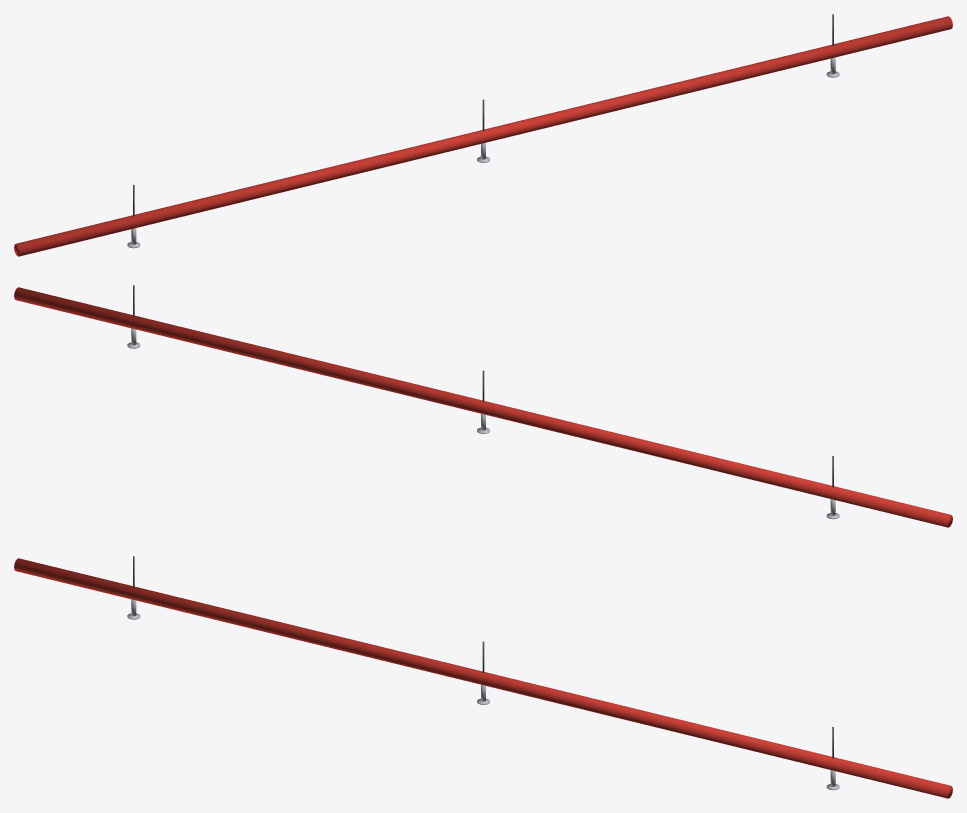
Rendered from Arch_Ceiling_Sprinkler_4m.gltf.
3 renders of one model, top to bottom at view 1: azimuth 30°, elevation 25°; view 2: azimuth 150°, elevation 25°; view 3: azimuth 330°, elevation 25°, orthographic.
Parts seen in each view (by area): view 1: Arch_Ceiling_Sprinkler_4m; view 2: Arch_Ceiling_Sprinkler_4m; view 3: Arch_Ceiling_Sprinkler_4m.
Boxes of the visible parts, x1,y1,x2,y2 form: Arch_Ceiling_Sprinkler_4m: [14, 14, 952, 256]; Arch_Ceiling_Sprinkler_4m: [14, 285, 952, 527]; Arch_Ceiling_Sprinkler_4m: [14, 556, 952, 798].
Bounding box in the file's own units: 4 × 0.247 × 0.05.
